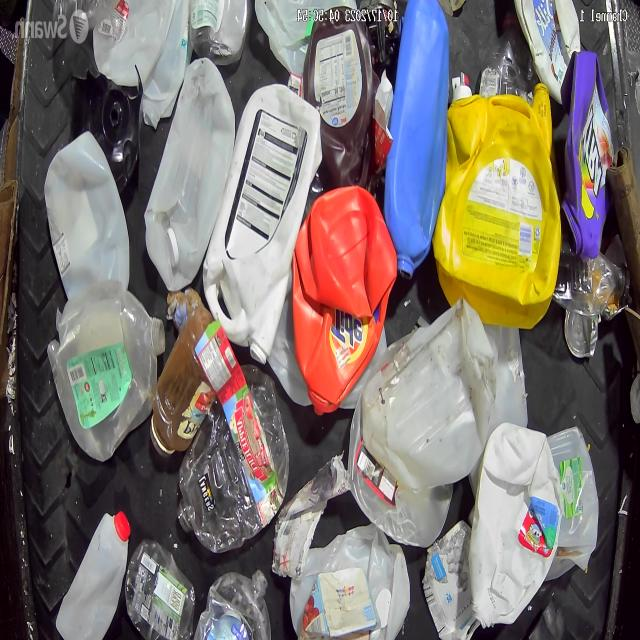can: (563, 312, 598, 358)
milk_jug: (202, 82, 322, 364), (362, 297, 497, 489), (142, 60, 235, 296), (468, 422, 562, 628), (52, 288, 158, 465), (44, 134, 131, 295), (288, 526, 408, 639), (62, 508, 130, 639), (546, 426, 599, 582), (256, 1, 315, 76)
non_white_jug: (432, 77, 561, 330), (291, 185, 398, 416), (384, 0, 449, 279), (303, 5, 373, 186), (562, 50, 614, 263)
plastic_bottle: (177, 377, 291, 554)
